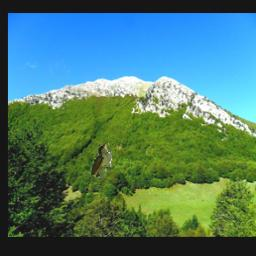Cuckoo: (84, 143, 111, 193)
